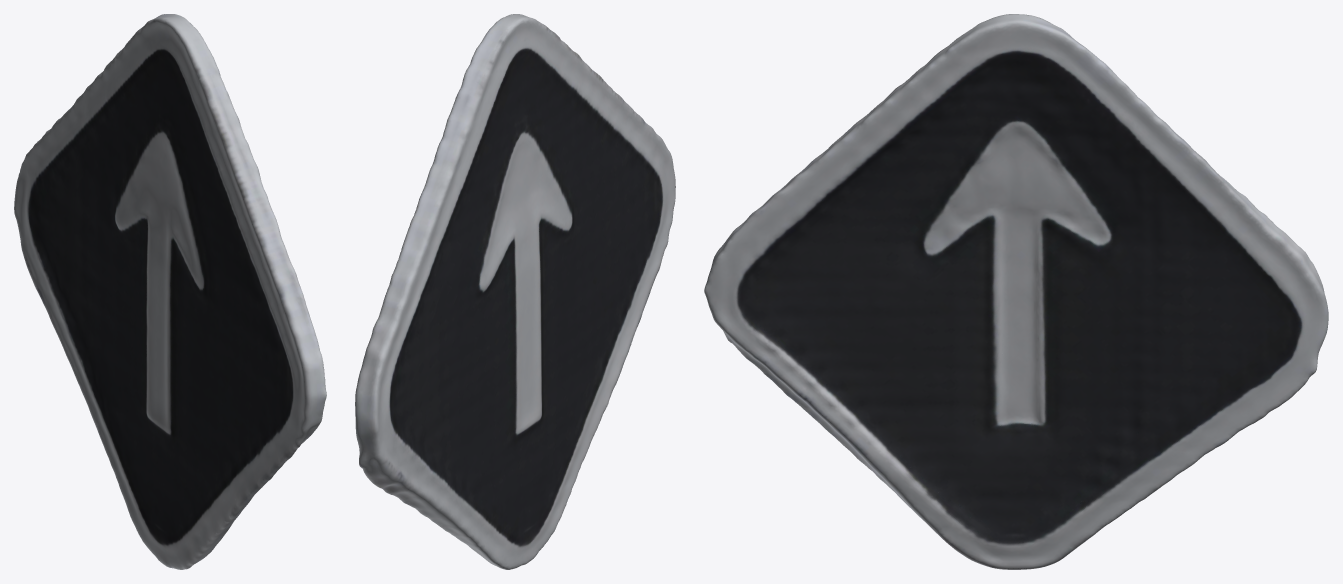
The model's file is cab85cee90f0_Right_Arrow__3d_ass.fbx.
3 views of the same model, side by side, from view 1: azimuth 30°, elevation 25°; view 2: azimuth 150°, elevation 25°; view 3: azimuth 270°, elevation 25° (orthographic). The views are drawn at different scales.
Parts seen in each view (by area): view 1: high_poly; view 2: high_poly; view 3: high_poly.
Part boxes in pixels (bbox=[...]): high_poly: bbox=[14, 14, 326, 569]; high_poly: bbox=[355, 14, 675, 569]; high_poly: bbox=[704, 14, 1328, 569].
Bounding box in the file's own units: 6.4 × 98.59 × 100.
